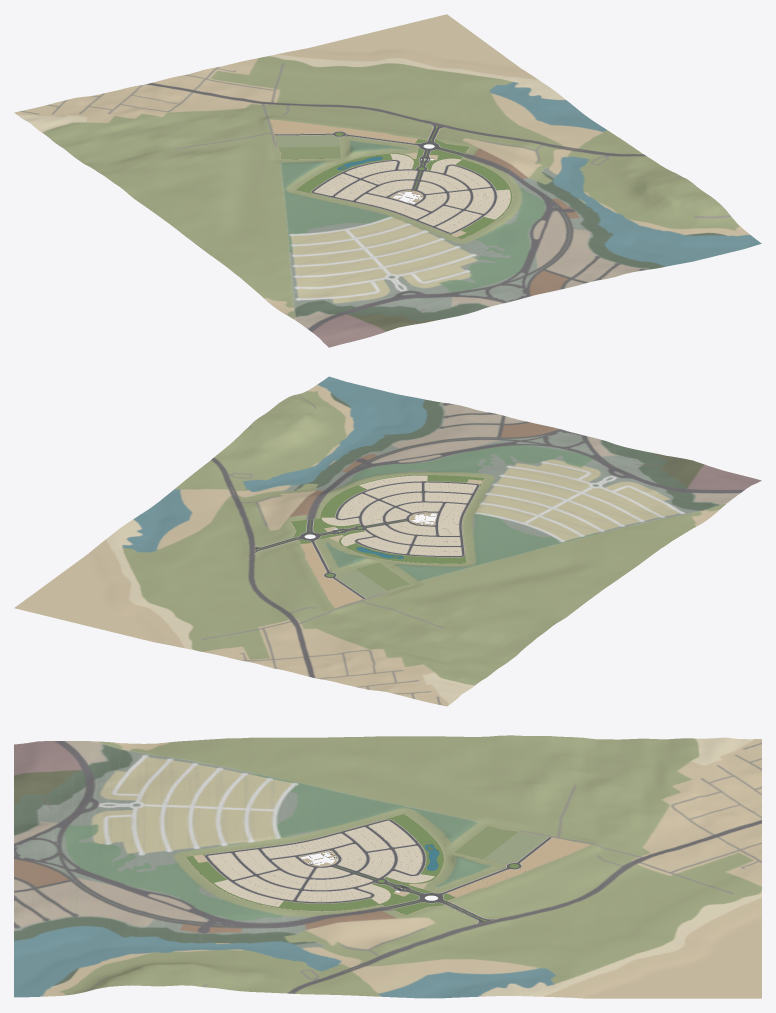
The model's file is loteamento.glb.
The picture shows the model from 3 angles, top to bottom: view 1: azimuth 30°, elevation 25°; view 2: azimuth 150°, elevation 25°; view 3: azimuth 270°, elevation 25°; orthographic projection. The views are drawn at different scales.
Parts seen in each view (by area): view 1: Terreno_00, Terreno_10, Terreno_11, Terreno_01, Verdes, Pista, Calcadas, Fundo, Institucional, QHL01; view 2: Terreno_11, Terreno_00, Terreno_01, Terreno_10, Verdes, Pista, Calcadas, Fundo, Institucional, QHL01; view 3: Terreno_11, Terreno_00, Terreno_01, Terreno_10, Verdes, Pista, Calcadas, Fundo, Institucional, QHL01.
Part boxes in pixels (bbox=[...]): Terreno_00: bbox=[164, 189, 544, 347]; Terreno_10: bbox=[461, 123, 761, 292]; Terreno_11: bbox=[231, 14, 596, 158]; Terreno_01: bbox=[14, 64, 363, 219]; Verdes: bbox=[296, 132, 512, 239]; Pista: bbox=[274, 131, 496, 233]; Calcadas: bbox=[274, 131, 497, 233]; Fundo: bbox=[278, 146, 341, 159]; Institucional: bbox=[275, 135, 340, 147]; QHL01: bbox=[270, 119, 343, 134]; Terreno_11: bbox=[14, 497, 364, 657]; Terreno_00: bbox=[462, 425, 761, 594]; Terreno_01: bbox=[231, 555, 596, 706]; Terreno_10: bbox=[164, 376, 544, 521]; Verdes: bbox=[291, 475, 484, 577]; Pista: bbox=[296, 481, 479, 598]; Calcadas: bbox=[296, 481, 479, 598]; Fundo: bbox=[355, 562, 410, 590]; Institucional: bbox=[335, 569, 387, 597]; QHL01: bbox=[316, 576, 362, 607]; Terreno_11: bbox=[405, 860, 761, 998]; Terreno_00: bbox=[14, 736, 405, 867]; Terreno_01: bbox=[405, 735, 761, 870]; Terreno_10: bbox=[14, 863, 405, 997]; Verdes: bbox=[186, 814, 518, 915]; Pista: bbox=[205, 819, 551, 908]; Calcadas: bbox=[204, 819, 552, 908]; Fundo: bbox=[454, 826, 517, 859]; Institucional: bbox=[484, 831, 548, 864]; QHL01: bbox=[520, 838, 590, 871].
Bounding box in the file's own units: 1500 × 39.5 × 1890.
Materials: 15 (4 with a texture image).
